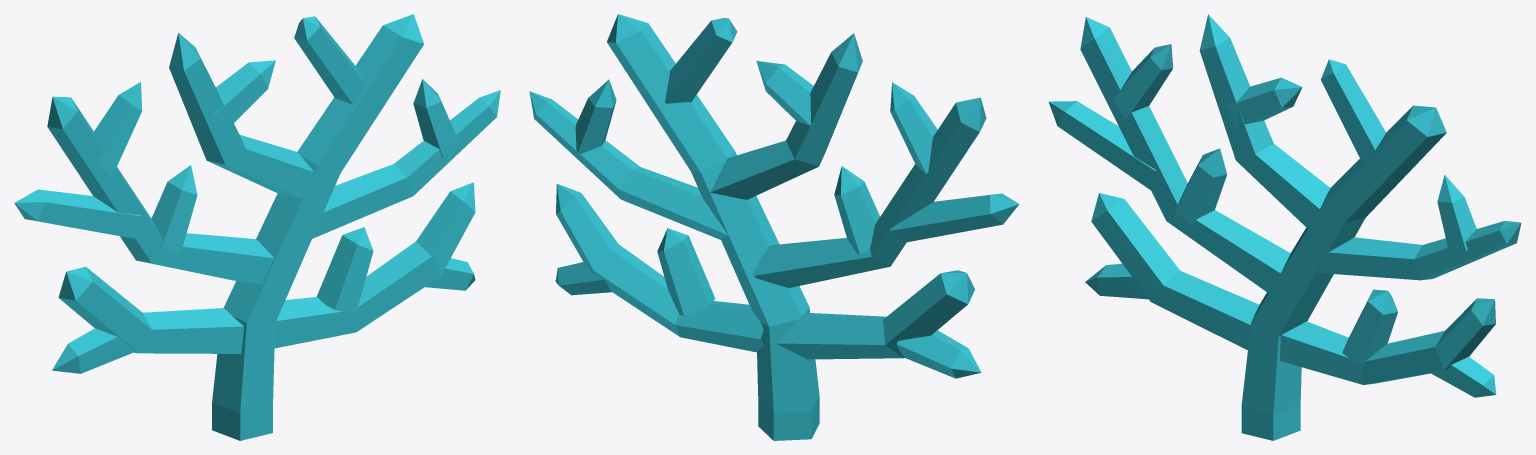
File: coral_small_blue.glb
3 views of the same model, side by side, from view 1: azimuth 30°, elevation 25°; view 2: azimuth 150°, elevation 25°; view 3: azimuth 330°, elevation 25° (orthographic). The views are drawn at different scales.
Parts seen in each view (by area): view 1: coral_small_blue; view 2: coral_small_blue; view 3: coral_small_blue.
Part boxes in pixels (box(x1,y1,x2,y2)): coral_small_blue: box(14, 14, 500, 440); coral_small_blue: box(529, 14, 1019, 440); coral_small_blue: box(1048, 14, 1521, 440).
Bounding box in the file's own units: 1.07 × 0.8644 × 0.1114.
1 material, 1 textured.
